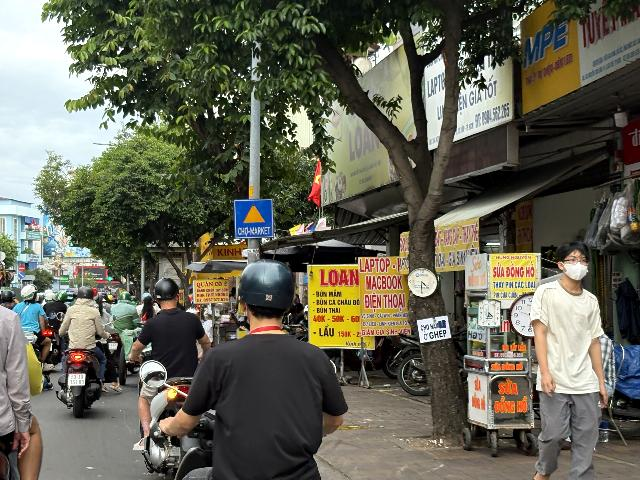khu-vuc-cho-phia-truoc: (234, 200, 274, 238)
